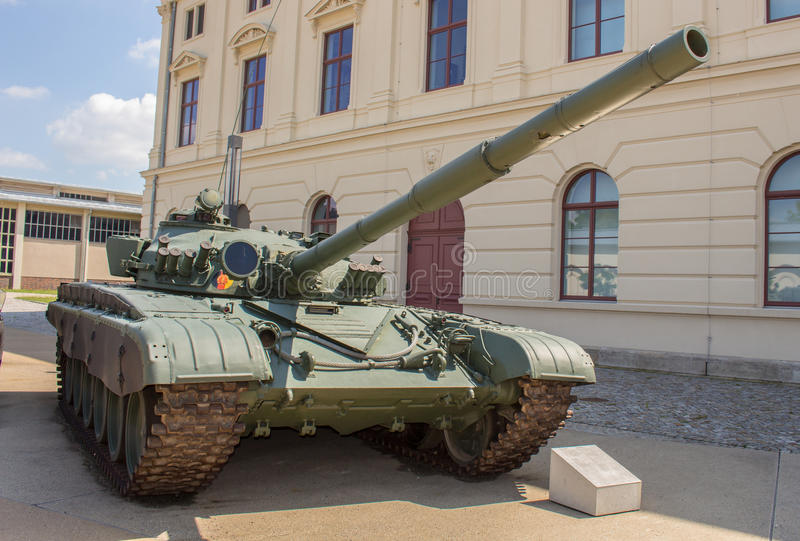t72: (52, 206, 603, 488)
